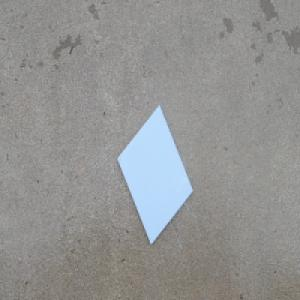PaintChip: (115, 103, 192, 246)
